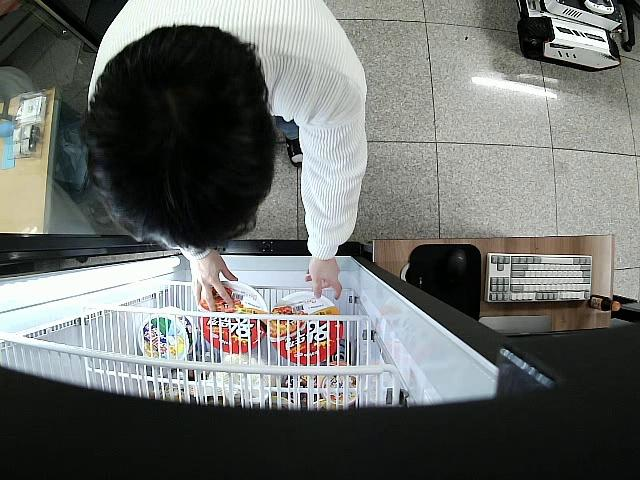00_hand: (191, 254, 238, 314), (305, 255, 342, 299)
10_wangTtukkeong: (267, 293, 342, 363), (199, 281, 266, 354)
